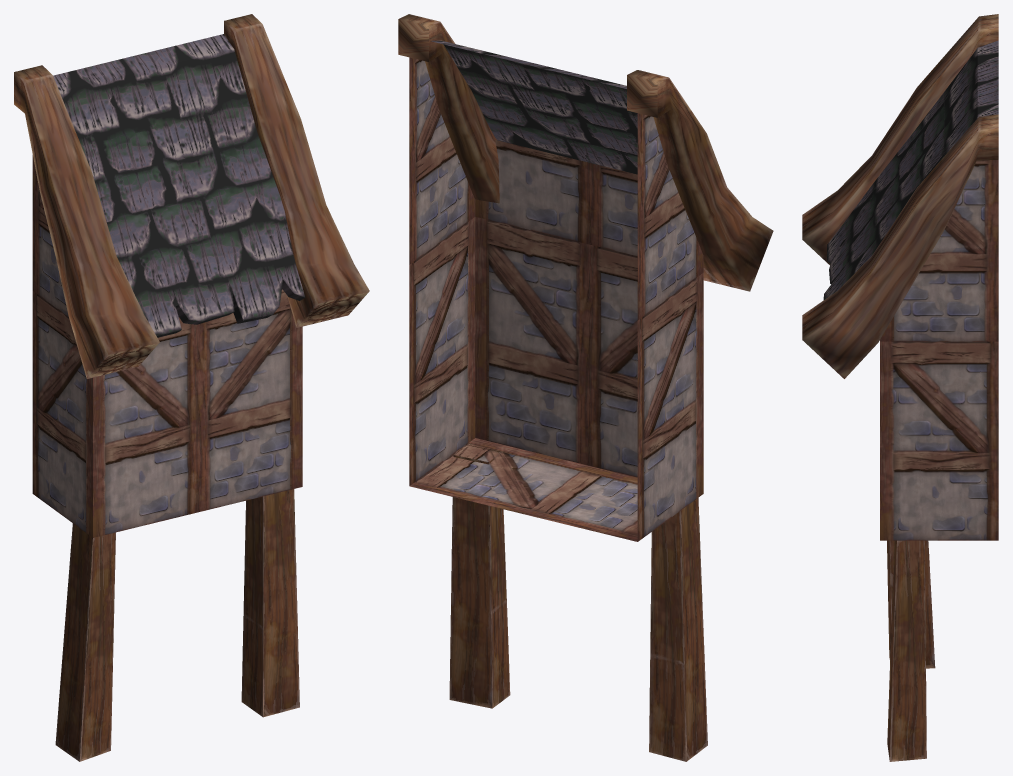
The model's file is wall_roof_pillar_higher1x1.fbx.
The picture shows the model from 3 angles, left to right: view 1: azimuth 30°, elevation 25°; view 2: azimuth 150°, elevation 25°; view 3: azimuth 270°, elevation 25°; orthographic projection. The views are drawn at different scales.
Parts seen in each view (by area): view 1: wall_roof_pillar_higher1x1; view 2: wall_roof_pillar_higher1x1; view 3: wall_roof_pillar_higher1x1.
Boxes of the visible parts, <box> form: wall_roof_pillar_higher1x1: <box>14,14,369,761</box>; wall_roof_pillar_higher1x1: <box>398,14,773,761</box>; wall_roof_pillar_higher1x1: <box>802,14,998,761</box>.
Bounding box in the file's own units: 187 × 445 × 124.
